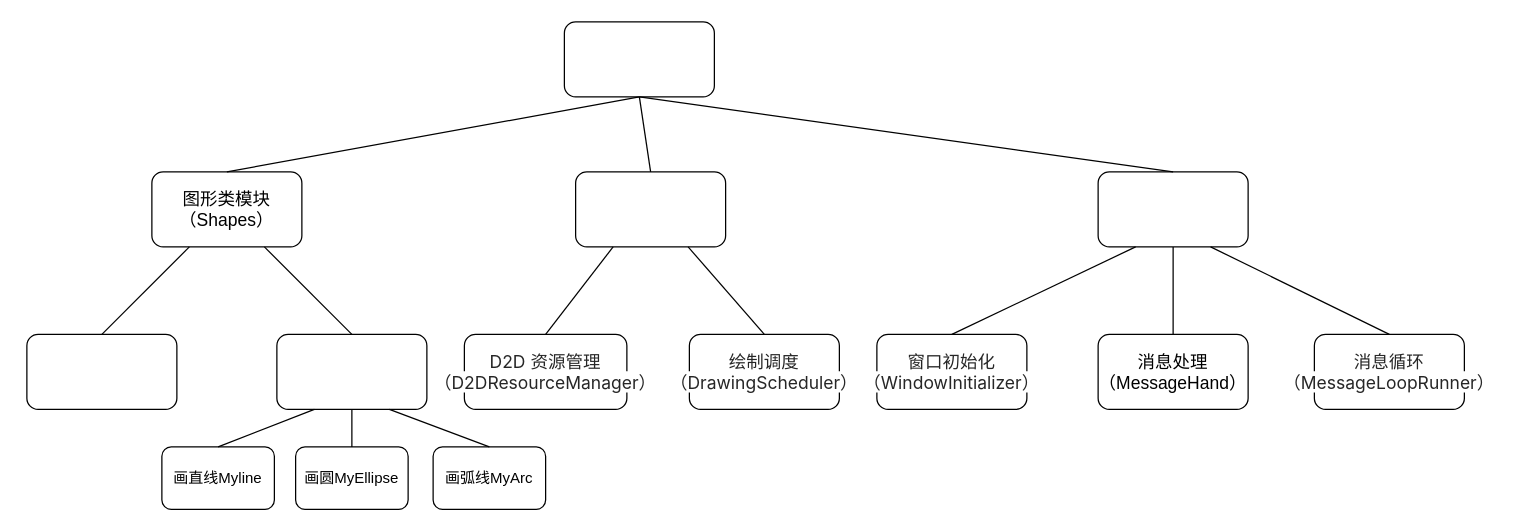
Some shapes in this 1516 by 531 pixel diagram are drawn without their labels. Each missing label, with the box of its shape:
Direct图形绘制程序: (563, 21, 714, 97)
主程序模块（Main）: (1097, 171, 1248, 247)
具体形状实现（ConcreteShapes）: (276, 333, 427, 409)
形状接口（ShapeInterface）: (26, 333, 177, 409)
渲染模块（Renders）: (574, 171, 726, 247)
